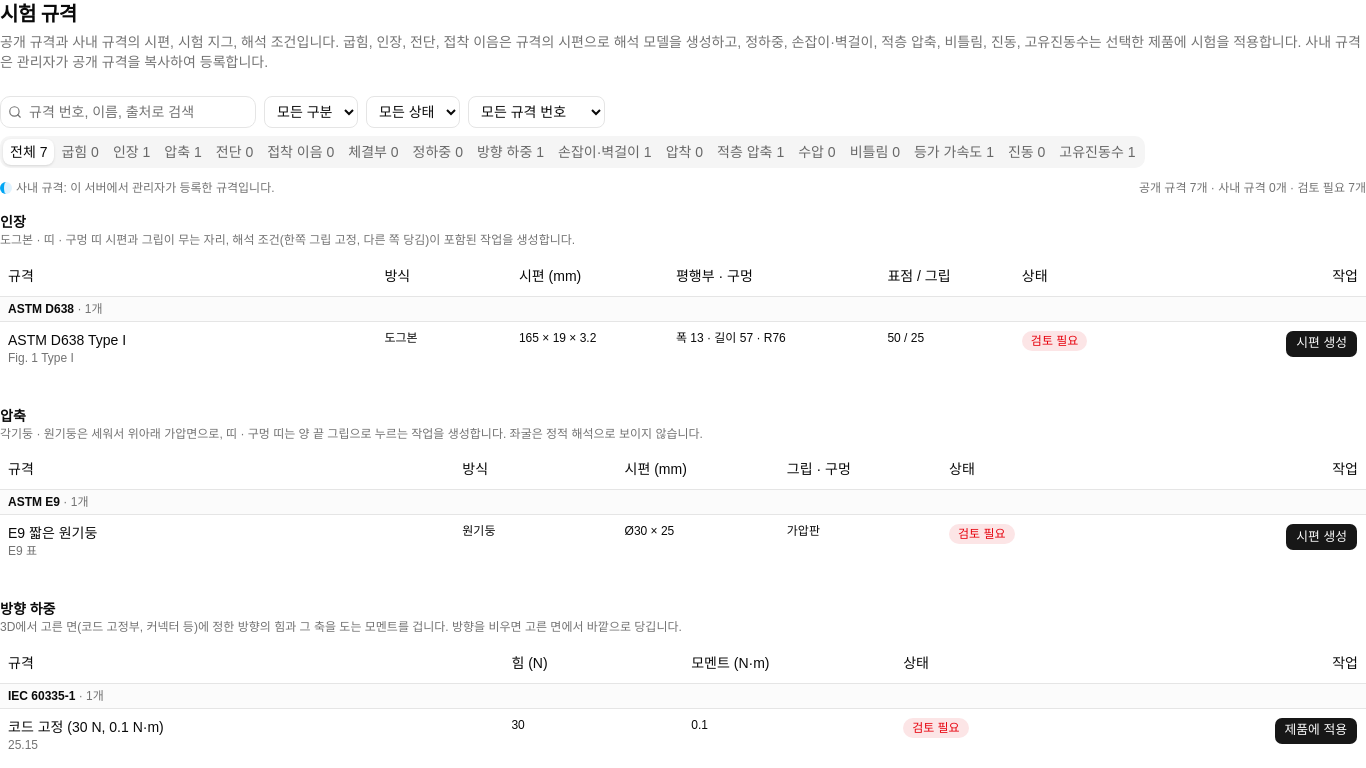
원기둥 압축 시편은 두께 칸이 없다
Expected: the text "Ø30 × 25" is shown, [617,514,779,567]
What coordinates should you click on to do the following:
click the button "시편 생성" in the row of "E9 짧은 원기둥"
I would click on:
 (1322, 537)
Its box is [1285,523,1358,551].
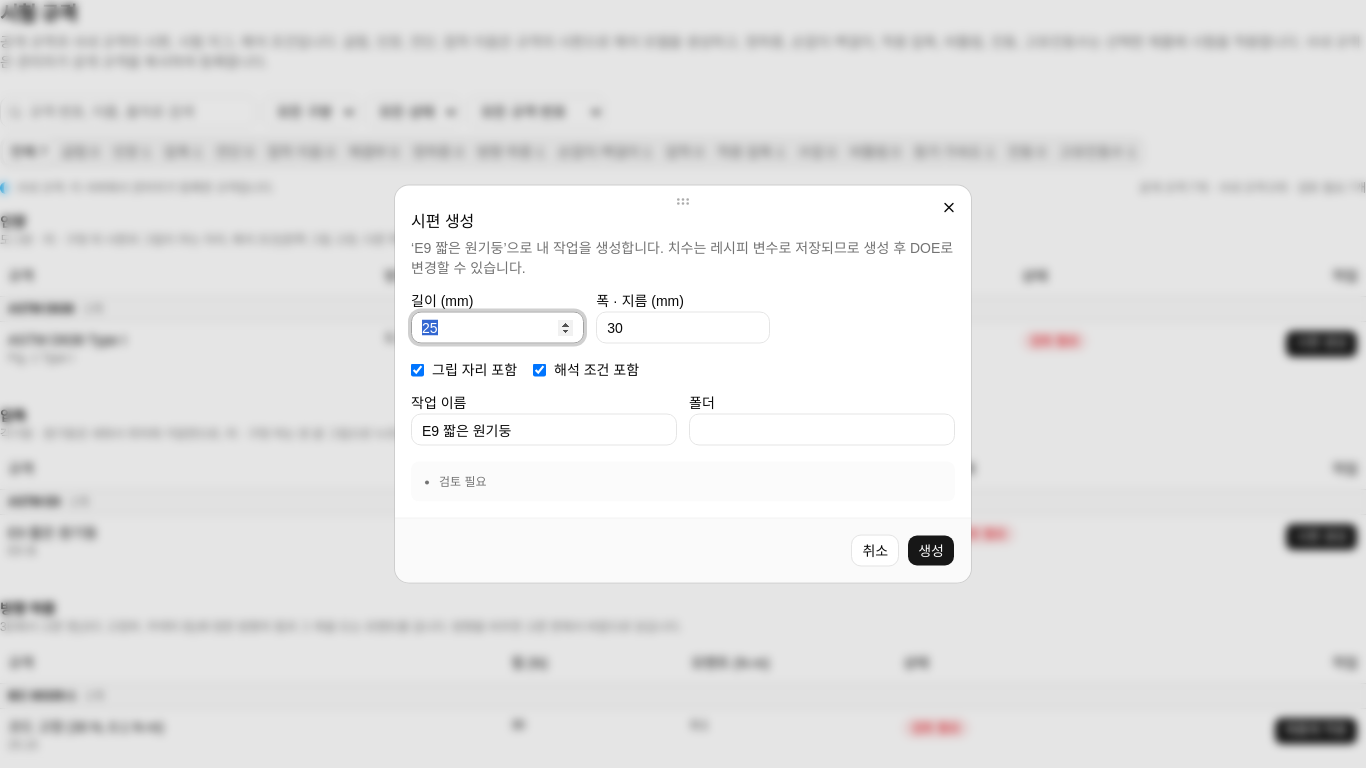
Expected: the number field labelled "폭 · 지름 (mm)" holds "30", [596,312,770,344]
